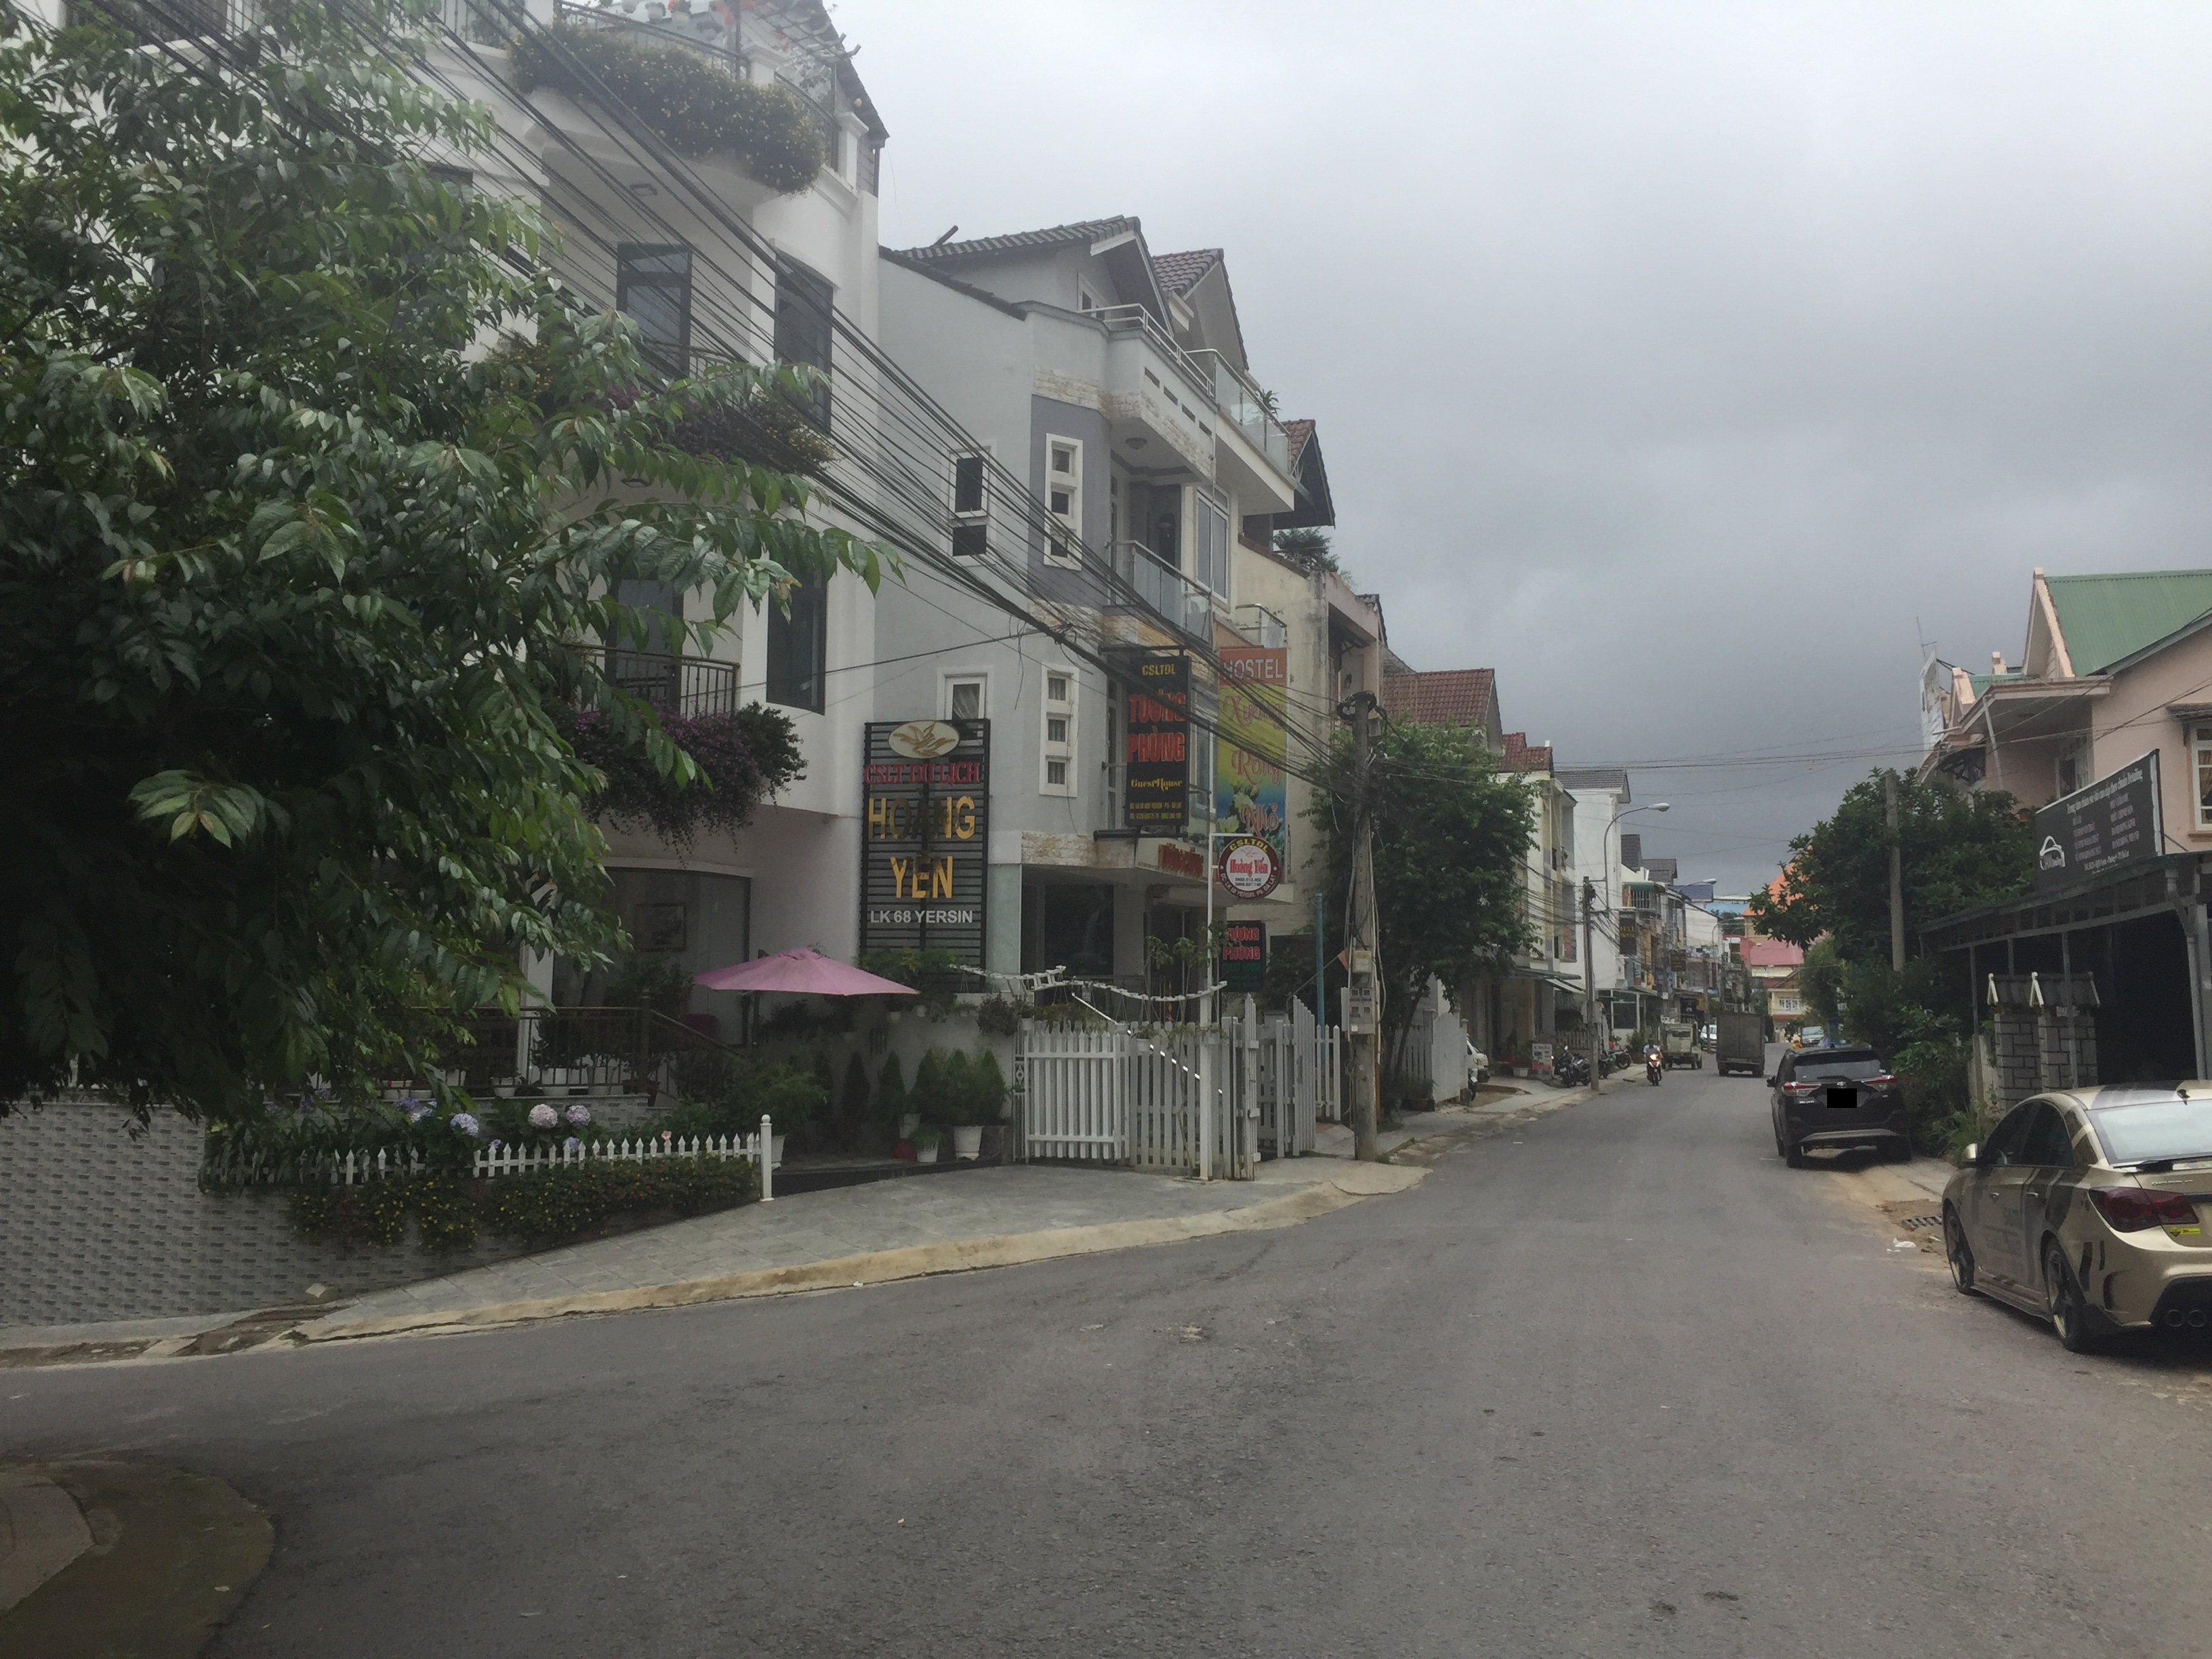hole: (1698, 1589, 1738, 1607), (1646, 1598, 1677, 1617), (1075, 1321, 1106, 1333), (1177, 1333, 1205, 1342), (1174, 1324, 1207, 1331), (1526, 1429, 1547, 1439), (1479, 1406, 1496, 1415)
